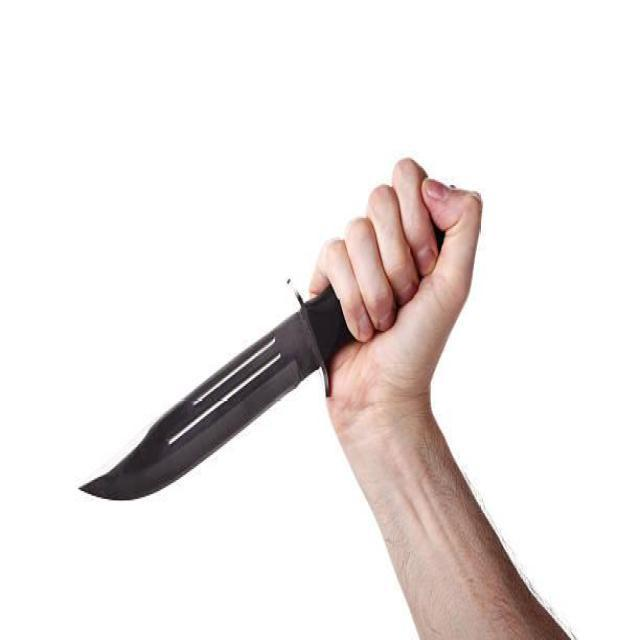faca: (77, 132, 502, 530)
